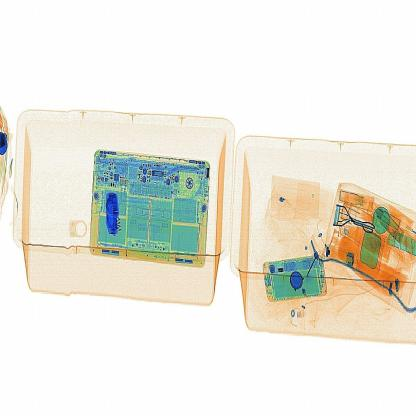scissors: (103, 186, 125, 240)
